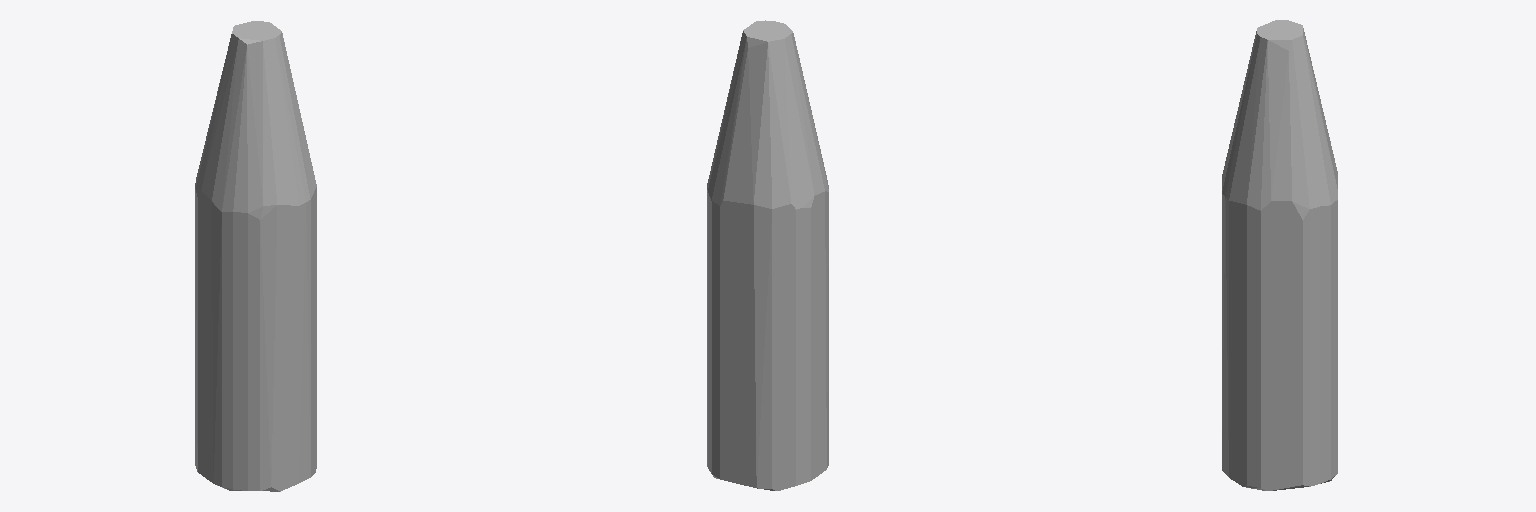
robot.urdf — root:
<robot name="root">
  <link name="link_9f2bb4a157164af19a7c9976093a710d_convex_piece_0">
    <inertial>
      <origin rpy="0 0 0" xyz="0 0 0"/>
      <mass value="2.21E-04"/>
      <inertia ixx="4.91E-07" ixy="3.37E-10" ixz="4.85E-10" iyy="4.91E-07" iyz="5.49E-10" izz="5.69E-08"/>
    </inertial>
    <visual>
      <origin rpy="0 0 0" xyz="0 0 0"/>
      <geometry>
        <mesh filename="9f2bb4a157164af19a7c9976093a710d_convex_piece_0.obj" scale="1.0000E+00"/>
      </geometry>
      <material name="">
        <color rgba="7.50E-01 7.50E-01 7.50E-01 1"/>
      </material>
    </visual>
    <collision>
      <origin rpy="0 0 0" xyz="0 0 0"/>
      <geometry>
        <mesh filename="9f2bb4a157164af19a7c9976093a710d_convex_piece_0.obj" scale="1.0000E+00"/>
      </geometry>
    </collision>
  </link>
</robot>

--- Render facts (derived) ---
The picture shows the robot from 3 angles, left to right: view 1: azimuth 30°, elevation 25°; view 2: azimuth 150°, elevation 25°; view 3: azimuth 270°, elevation 25°; orthographic projection.
Model root with 1 links and 0 joints (none), rooted at link_9f2bb4a157164af19a7c9976093a710d_convex_piece_0, posed every joint at zero.
Links seen in each view (by area): view 1: link_9f2bb4a157164af19a7c9976093a710d_convex_piece_0; view 2: link_9f2bb4a157164af19a7c9976093a710d_convex_piece_0; view 3: link_9f2bb4a157164af19a7c9976093a710d_convex_piece_0.
Link boxes in pixels (x1=…): link_9f2bb4a157164af19a7c9976093a710d_convex_piece_0: x1=195, y1=21, x2=316, y2=491; link_9f2bb4a157164af19a7c9976093a710d_convex_piece_0: x1=707, y1=20, x2=828, y2=490; link_9f2bb4a157164af19a7c9976093a710d_convex_piece_0: x1=1222, y1=20, x2=1337, y2=490.
Bounding box of the posed robot: 0.0458 × 0.0458 × 0.19 m (x, y, z).
1 mesh visuals loaded from 1 distinct referenced files (1 OBJ).